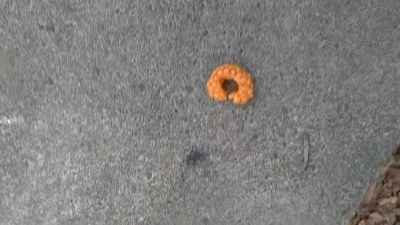eggs: (204, 63, 256, 106)
